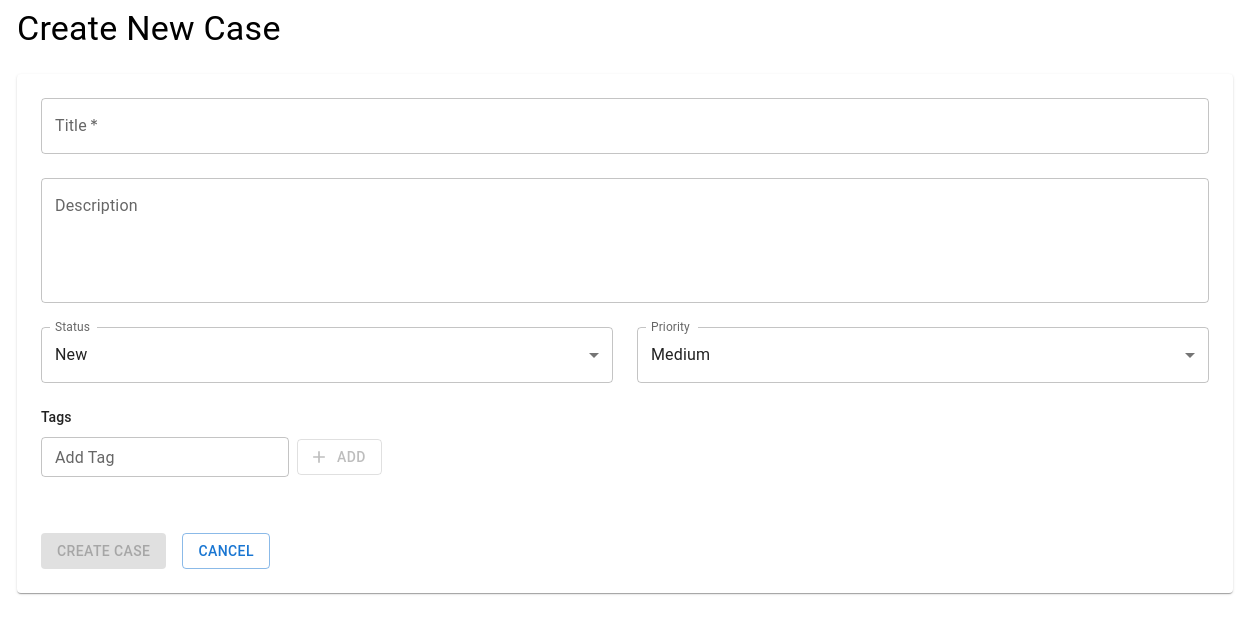
Scenario: CaseForm — tag management › adds a tag and clears the input
The image size is (1251, 644).
Type "urgent" into the field labelled "Add Tag".
click(165, 457); type("urgent")  # box x1=41 y1=437 x2=289 y2=477
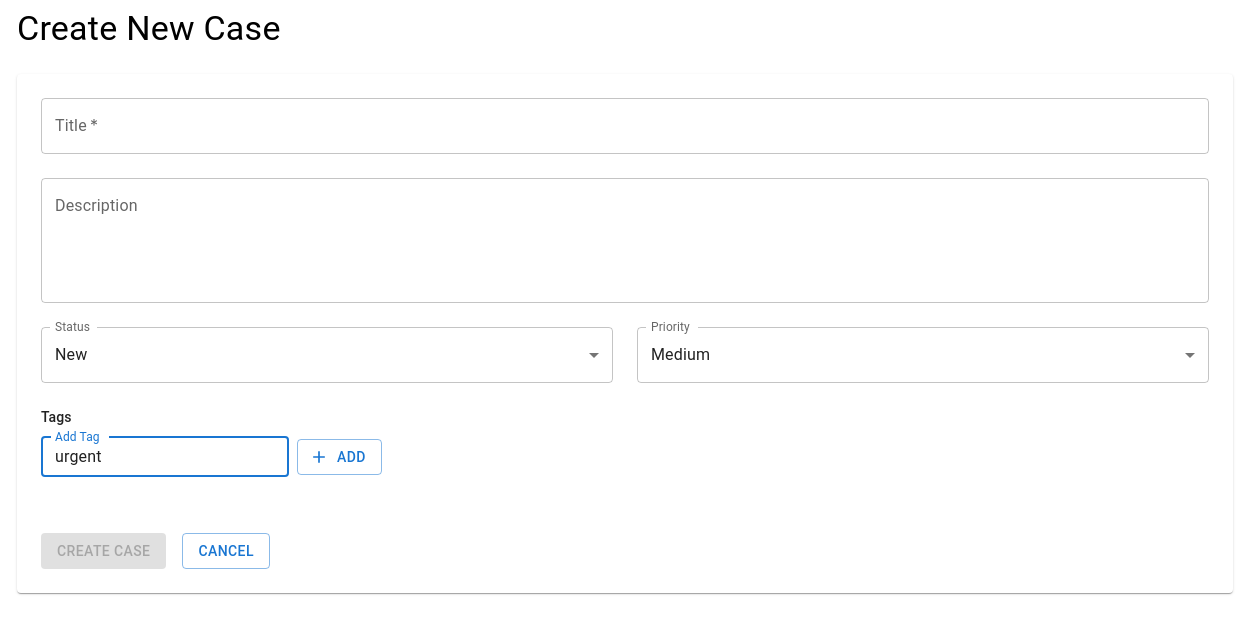
Click the button "Add".
click(339, 457)  # box x1=297 y1=439 x2=382 y2=475
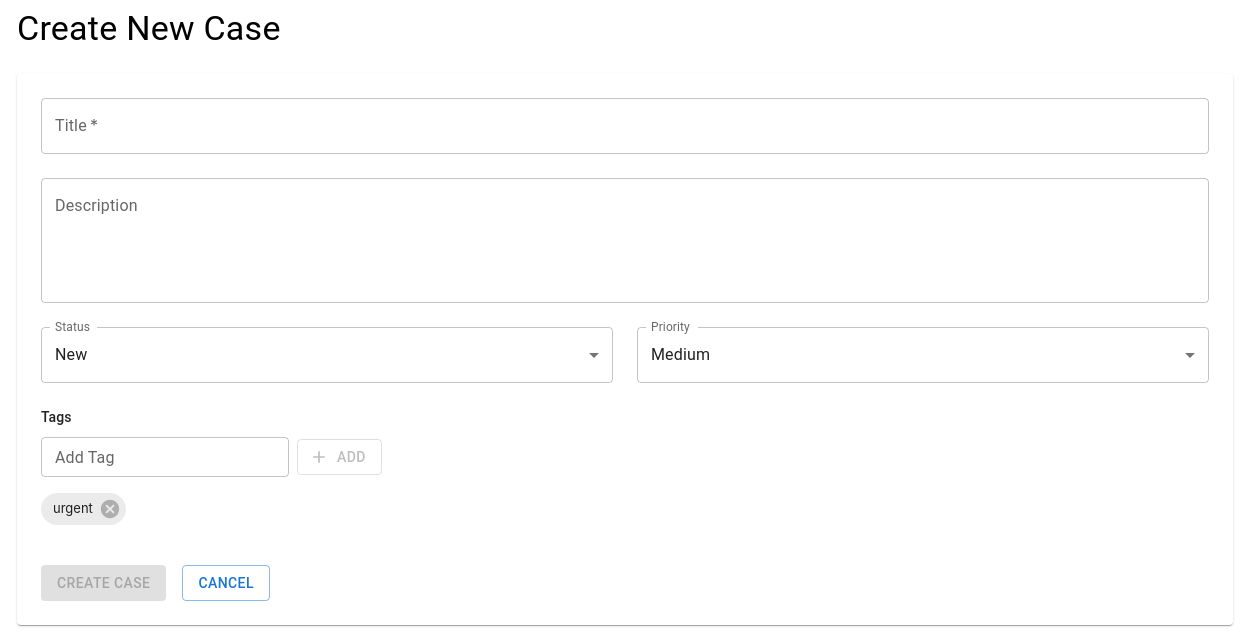
Check: the text "urgent" is shown, box x1=53 y1=500 x2=93 y2=516
Check: the field labelled "Add Tag" is empty, box x1=41 y1=437 x2=289 y2=477
